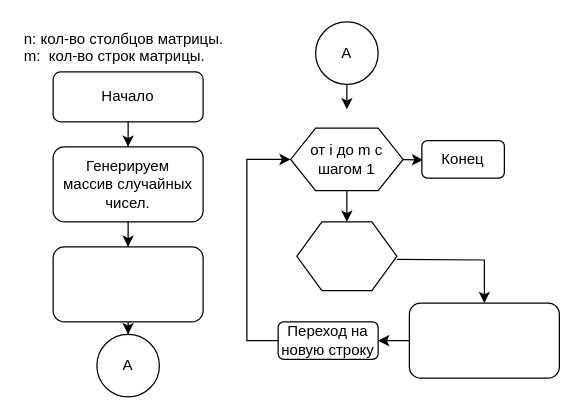
The diagram is 581 pixels wide and 419 high, and some of its shapes have lost their labels. Each missing label, with the centre of its shape:
Выводим исходную матрицу.: point (127, 284)
выводим элемент массива, стоящий на i,j позиции.: point (483, 340)
от j до n с шагом 2: point (346, 256)
